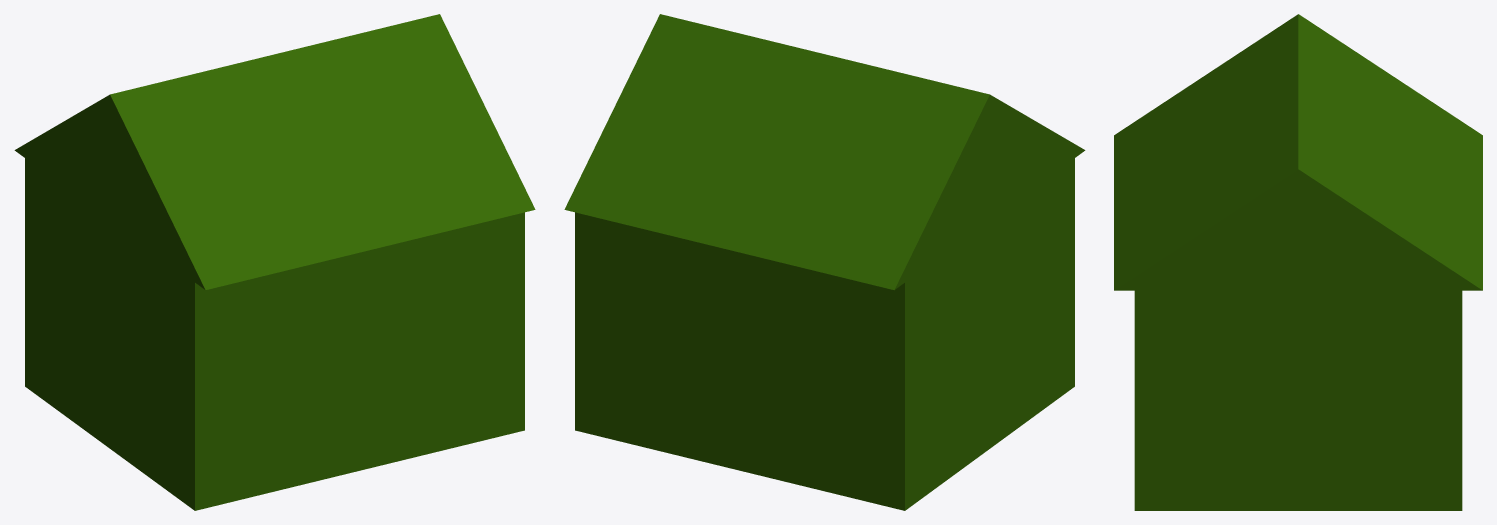
File: Boardgame_Building_Token_Green_01.fbx
3 renders of one model, left to right at view 1: azimuth 30°, elevation 25°; view 2: azimuth 150°, elevation 25°; view 3: azimuth 270°, elevation 25°, orthographic. The views are drawn at different scales.
Parts seen in each view (by area): view 1: Model; view 2: Model; view 3: Model.
Part boxes in pixels (<box>): Model: <box>14,14,535,510</box>; Model: <box>564,14,1085,510</box>; Model: <box>1114,14,1482,510</box>.
Size of the model in its own units: 136 by 139 by 136.
